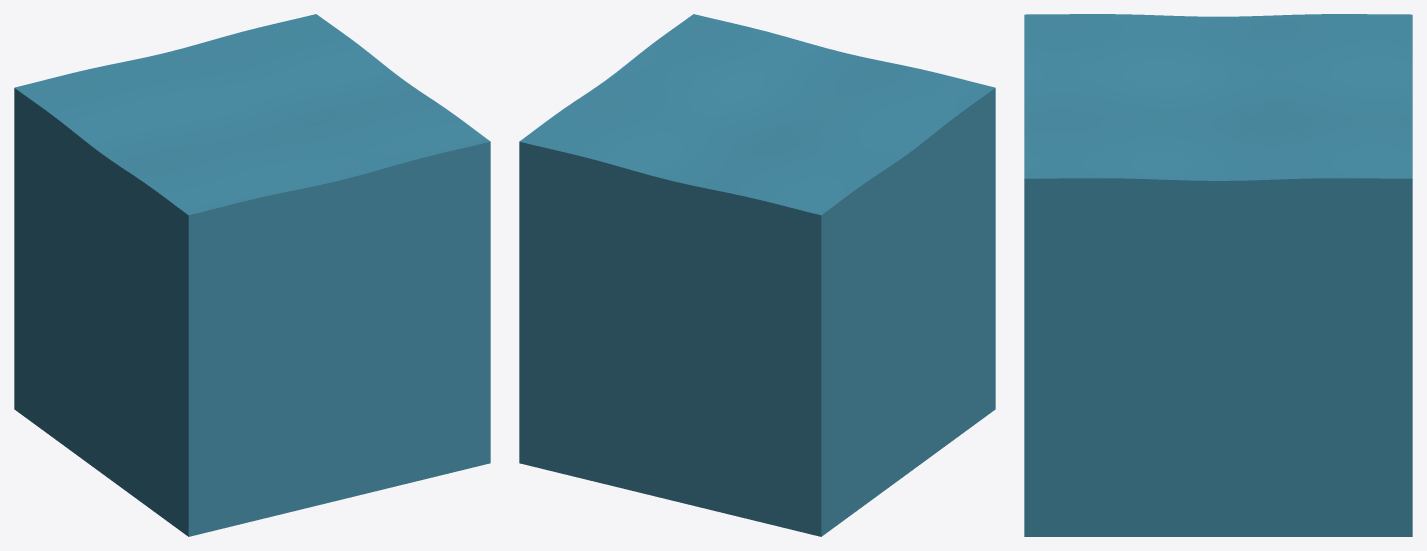
Rendered from slpool_wave24.glb.
3 renders of one model, left to right at view 1: azimuth 30°, elevation 25°; view 2: azimuth 150°, elevation 25°; view 3: azimuth 270°, elevation 25°, orthographic. The views are drawn at different scales.
Parts seen in each view (by area): view 1: poolWater; view 2: poolWater; view 3: poolWater.
Part boxes in pixels (x1,y1,x2,y2): poolWater: (14, 14, 490, 536); poolWater: (519, 14, 995, 536); poolWater: (1024, 14, 1412, 536).
Bounding box in the file's own units: 2 × 2.04 × 2.
